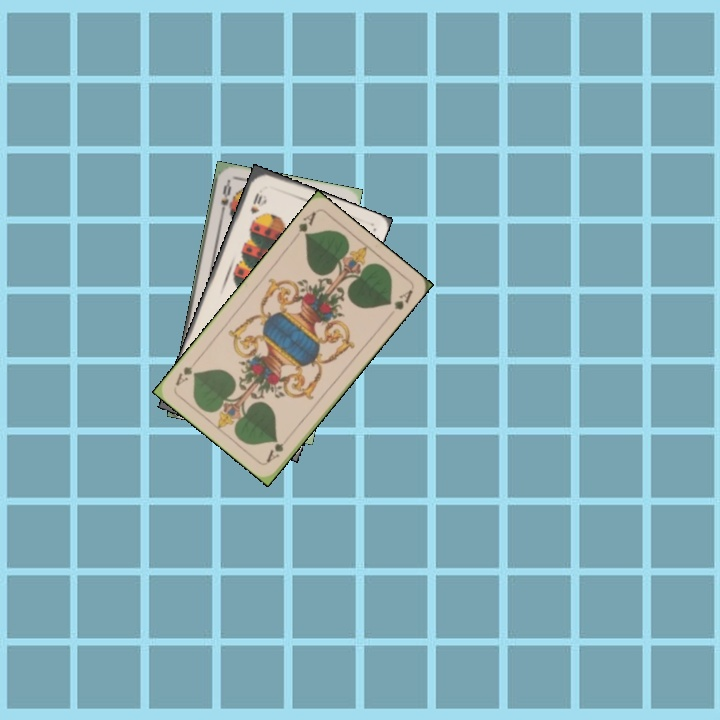GA: (294, 207, 318, 240), (262, 439, 286, 465)
S10: (246, 188, 265, 216)
SO: (216, 178, 234, 218)
